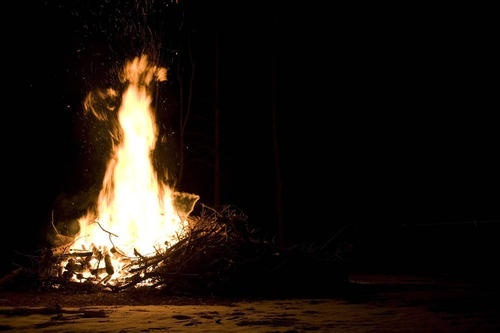fire: (64, 55, 191, 285)
